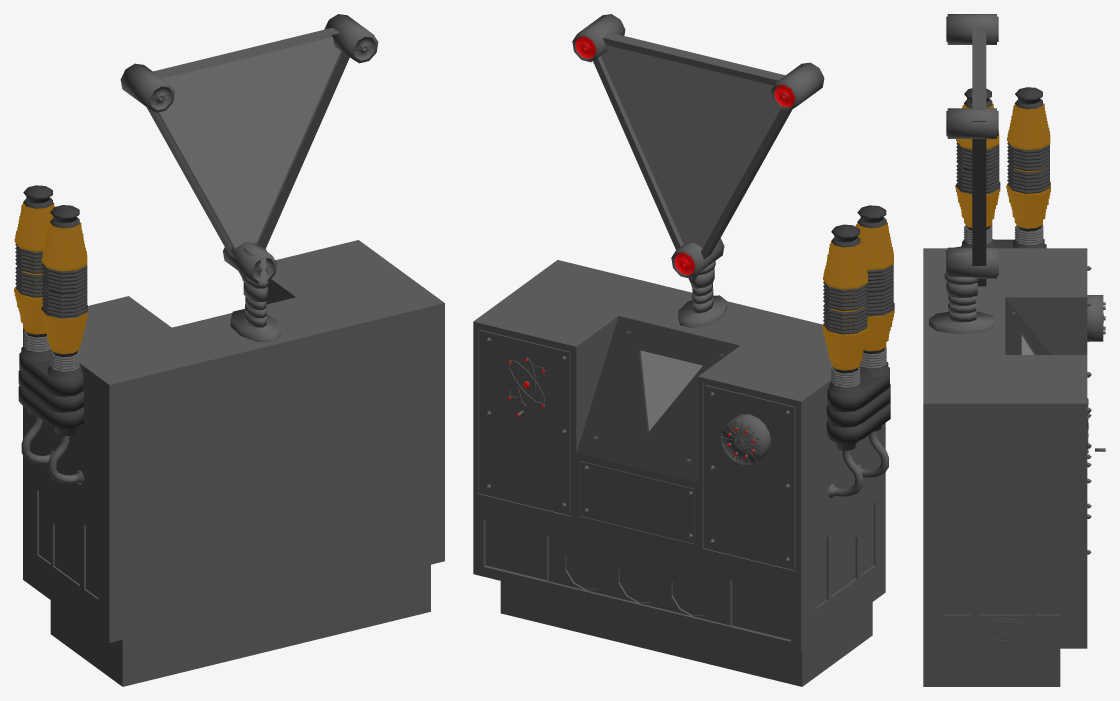
3 views of the same model, side by side, from view 1: azimuth 30°, elevation 25°; view 2: azimuth 150°, elevation 25°; view 3: azimuth 270°, elevation 25° (orthographic). The views are drawn at different scales.
Visible parts, largest first — view 1: Cylinder.001; view 2: Cylinder.001; view 3: Cylinder.001.
Part boxes in pixels (<box>): Cylinder.001: <box>14,14,444,686</box>; Cylinder.001: <box>473,14,894,686</box>; Cylinder.001: <box>923,14,1105,686</box>.
Size of the model in its own units: 1.04 by 1.56 by 0.4646.
